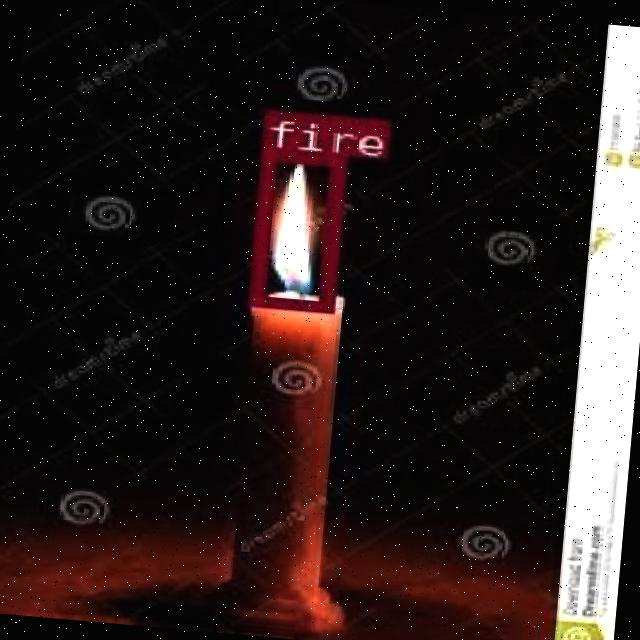fire: (246, 147, 344, 310)
